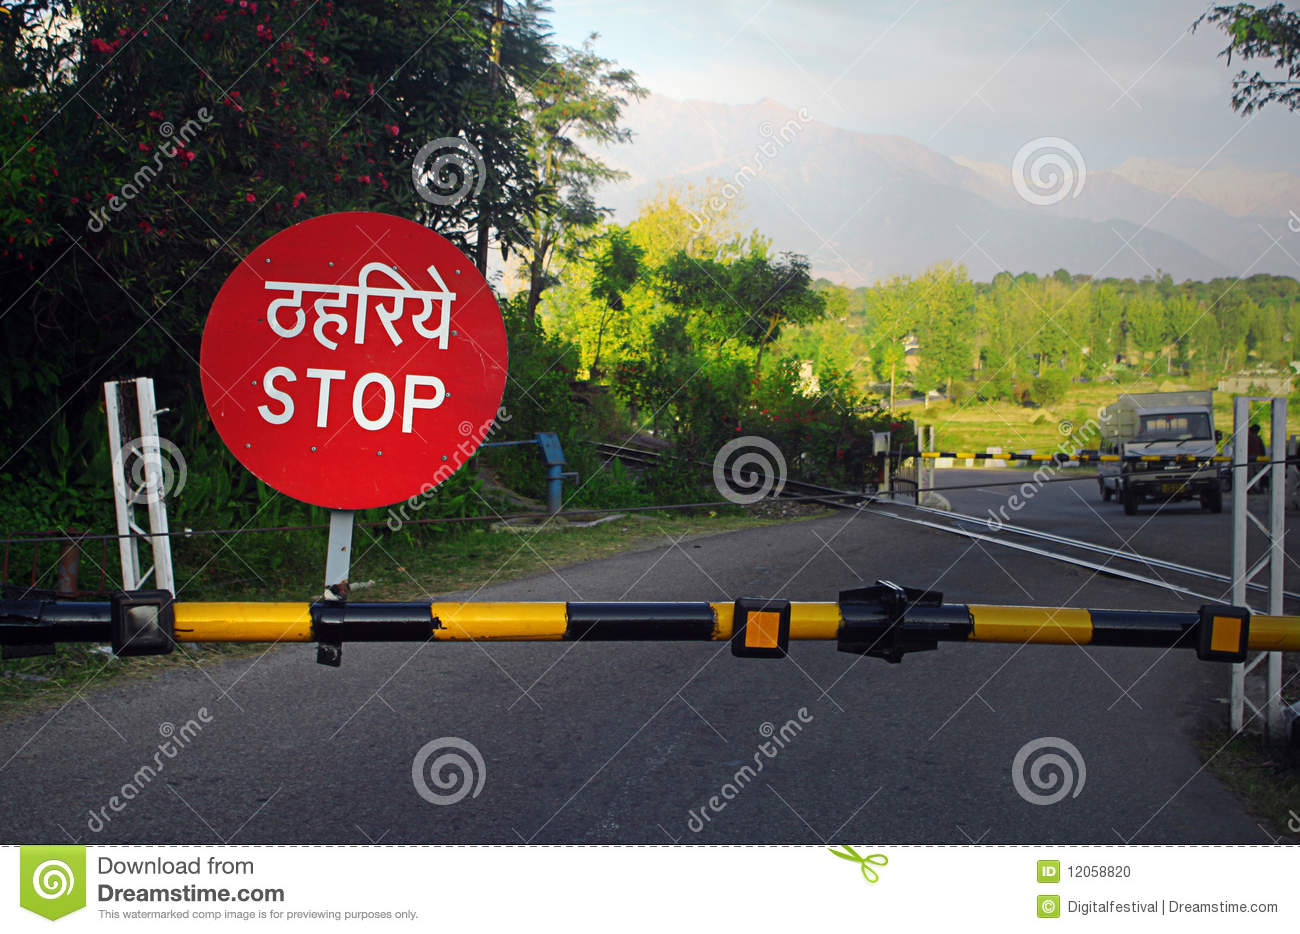stop: (229, 249, 480, 492)
truck: (1099, 394, 1228, 512)
